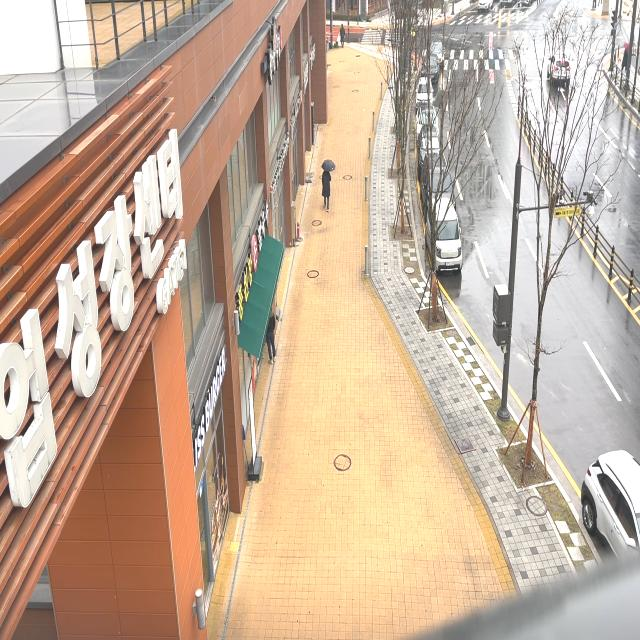Car: (569, 432, 640, 569), (418, 189, 466, 280), (417, 150, 464, 211), (544, 50, 579, 90), (415, 124, 447, 164), (415, 105, 443, 144), (425, 32, 453, 68), (412, 72, 438, 108), (418, 56, 442, 82)
